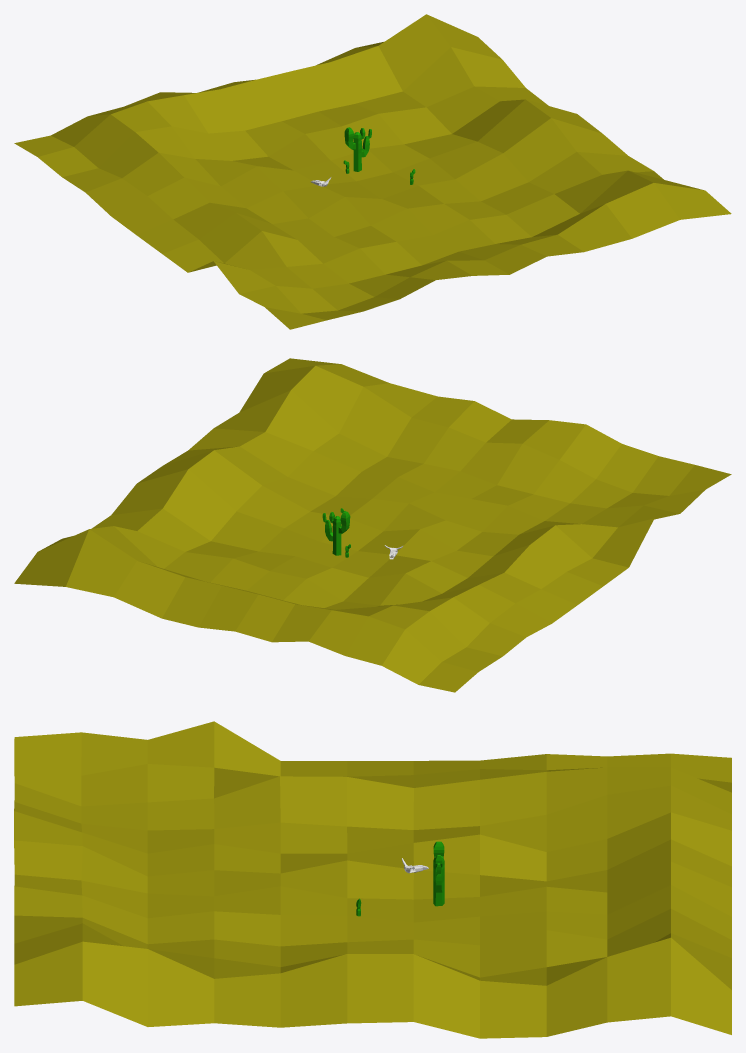
File: cactos.fbx
3 views of the same model, one above another, from view 1: azimuth 30°, elevation 25°; view 2: azimuth 150°, elevation 25°; view 3: azimuth 270°, elevation 25° (orthographic). The views are drawn at different scales.
Visible parts, largest first — view 1: Plane, Icosphere; view 2: Plane, Icosphere; view 3: Plane, Icosphere.
Boxes of the visible parts, x1,y1,x2,y2 form: Plane: [14, 14, 731, 329]; Icosphere: [344, 127, 371, 171]; Plane: [14, 358, 731, 692]; Icosphere: [322, 511, 350, 555]; Plane: [14, 721, 731, 1038]; Icosphere: [433, 841, 444, 906].
Size of the model in its own units: 5427 by 671 by 5886.
